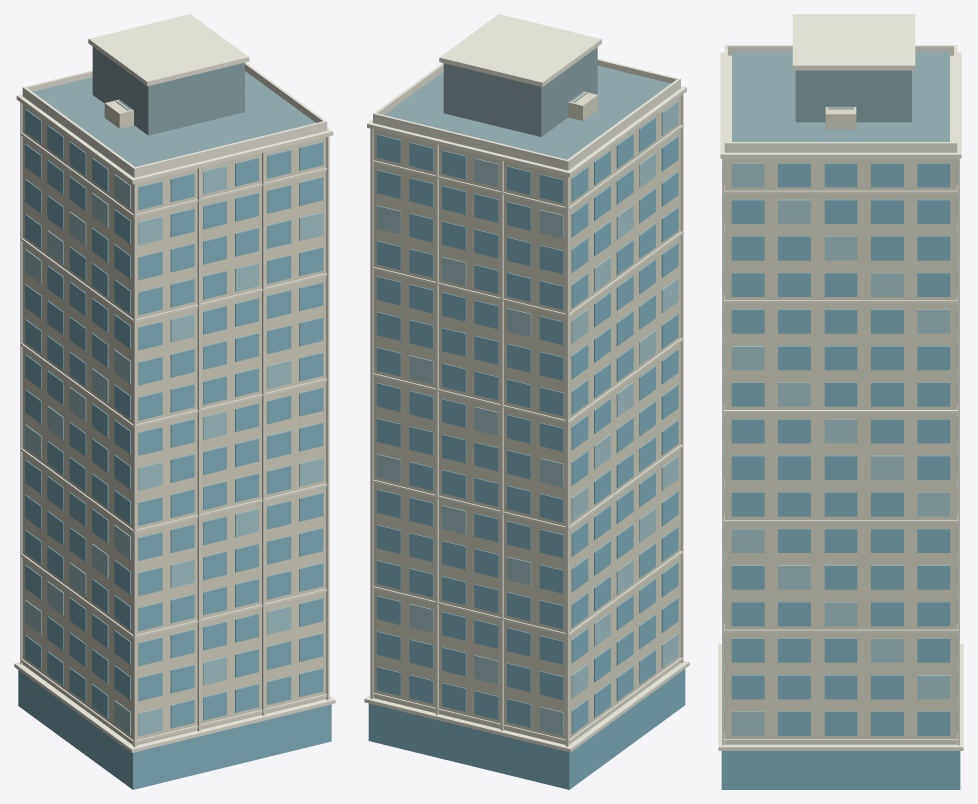
Rendered from building-a.glb.
3 renders of one model, left to right at view 1: azimuth 30°, elevation 25°; view 2: azimuth 150°, elevation 25°; view 3: azimuth 270°, elevation 25°, orthographic. The views are drawn at different scales.
Visible parts, largest first — view 1: Sora_Building_A_Surface; view 2: Sora_Building_A_Surface; view 3: Sora_Building_A_Surface.
Boxes of the visible parts, x1,y1,x2,y2 form: Sora_Building_A_Surface: (14,14,335,789); Sora_Building_A_Surface: (364,14,689,789); Sora_Building_A_Surface: (718,14,963,789).
Size of the model in its own units: 19 by 59.8 by 19.
